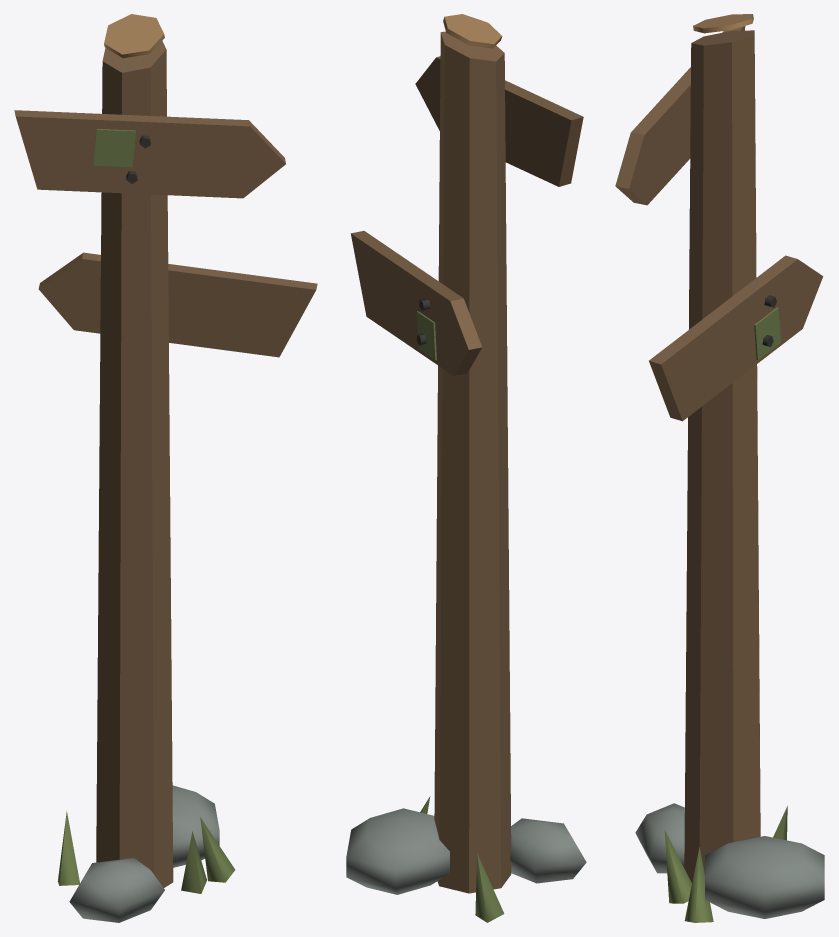
File: signpost.glb
The picture shows the model from 3 angles, left to right: view 1: azimuth 30°, elevation 25°; view 2: azimuth 150°, elevation 25°; view 3: azimuth 270°, elevation 25°; orthographic projection.
Visible parts, largest first — view 1: Mesh_Post, Mesh_Plank1, Mesh_Plank2, Mesh_Stone2, Mesh_Stone1, Mesh_PostCap, Mesh_LichenP1, Mesh_Grass3, Mesh_Grass2, Mesh_Grass1; view 2: Mesh_Post, Mesh_Plank2, Mesh_Stone1, Mesh_Plank1, Mesh_Stone2, Mesh_PostCap, Mesh_Grass2, Mesh_LichenP2; view 3: Mesh_Post, Mesh_Plank2, Mesh_Stone1, Mesh_Plank1, Mesh_Stone2, Mesh_Grass1, Mesh_Grass3, Mesh_LichenP2, Mesh_PostCap.
Part boxes in pixels (x1,y1,x2,y2): Mesh_Post: (96, 41, 173, 887); Mesh_Plank1: (14, 110, 285, 198); Mesh_Plank2: (38, 252, 317, 357); Mesh_Stone2: (69, 858, 164, 922); Mesh_Stone1: (172, 785, 219, 867); Mesh_PostCap: (104, 14, 164, 58); Mesh_LichenP1: (93, 129, 135, 167); Mesh_Grass3: (200, 817, 235, 882); Mesh_Grass2: (57, 811, 79, 885); Mesh_Grass1: (181, 831, 206, 893); Mesh_Post: (434, 31, 511, 893); Mesh_Plank2: (350, 231, 482, 375); Mesh_Stone1: (346, 808, 449, 894); Mesh_Plank1: (415, 56, 583, 186); Mesh_Stone2: (510, 818, 586, 883); Mesh_PostCap: (443, 14, 502, 48); Mesh_Grass2: (475, 853, 504, 922); Mesh_LichenP2: (417, 311, 436, 360); Mesh_Post: (684, 30, 760, 883); Mesh_Plank2: (649, 255, 823, 421); Mesh_Stone1: (705, 836, 824, 918); Mesh_Plank1: (615, 26, 745, 205); Mesh_Stone2: (635, 803, 684, 873); Mesh_Grass1: (664, 830, 691, 903); Mesh_Grass3: (684, 847, 713, 922); Mesh_LichenP2: (754, 307, 780, 360); Mesh_PostCap: (693, 14, 753, 33).
Bounding box in the file's own units: 0.6211 × 1.92 × 0.4155.
1 material, 1 textured.
